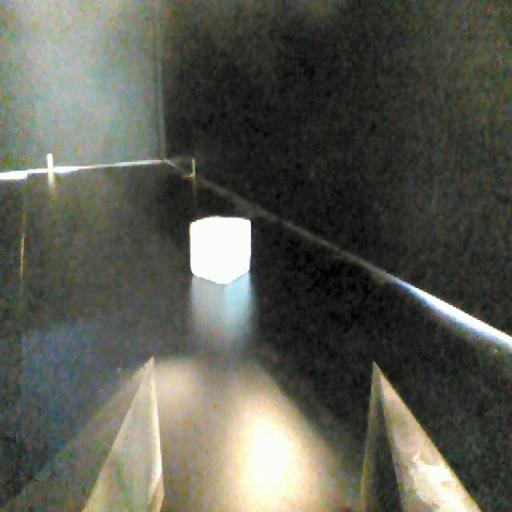cube: (185, 214, 254, 286)
